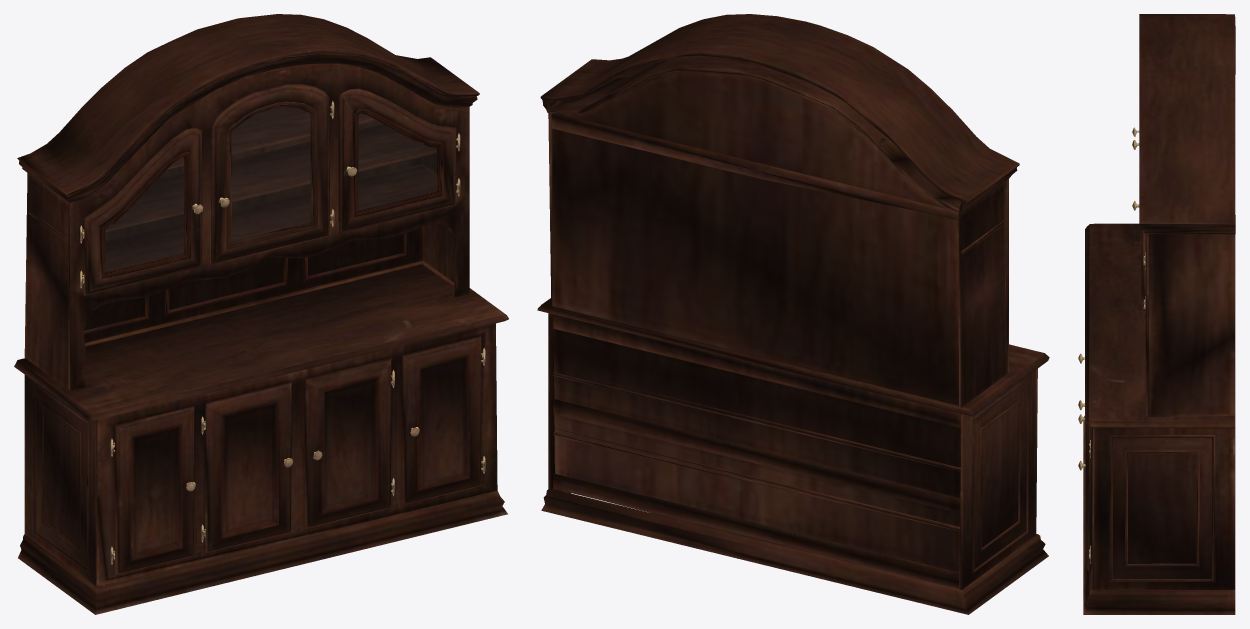
File: vintage_cabinet_01.glb
3 renders of one model, left to right at view 1: azimuth 30°, elevation 25°; view 2: azimuth 150°, elevation 25°; view 3: azimuth 270°, elevation 25°, orthographic. The views are drawn at different scales.
Visible parts, largest first — view 1: vintage_cabinet_01_body, vintage_cabinet_01_door_03, vintage_cabinet_01_door_01, vintage_cabinet_01_door_04, vintage_cabinet_01_door_06, vintage_cabinet_01_door_07, vintage_cabinet_01_door_02, vintage_cabinet_01_door_05; view 2: vintage_cabinet_01_body; view 3: vintage_cabinet_01_body, vintage_cabinet_01_door_02, vintage_cabinet_01_door_04.
Boxes of the visible parts, box(x1,y1,x2,y2) form: vintage_cabinet_01_body: box(14, 14, 508, 614); vintage_cabinet_01_door_03: box(210, 84, 332, 264); vintage_cabinet_01_door_01: box(83, 127, 203, 295); vintage_cabinet_01_door_04: box(338, 88, 458, 233); vintage_cabinet_01_door_06: box(204, 382, 292, 553); vintage_cabinet_01_door_07: box(305, 357, 392, 528); vintage_cabinet_01_door_02: box(402, 336, 483, 505); vintage_cabinet_01_door_05: box(113, 406, 195, 575); vintage_cabinet_01_body: box(537, 14, 1049, 614); vintage_cabinet_01_body: box(1083, 14, 1235, 614); vintage_cabinet_01_door_02: box(1078, 426, 1090, 572); vintage_cabinet_01_door_04: box(1132, 201, 1145, 319).
Size of the model in its own units: 2.02 by 2.23 by 0.6698.
Materials: 3 (2 with a texture image).
